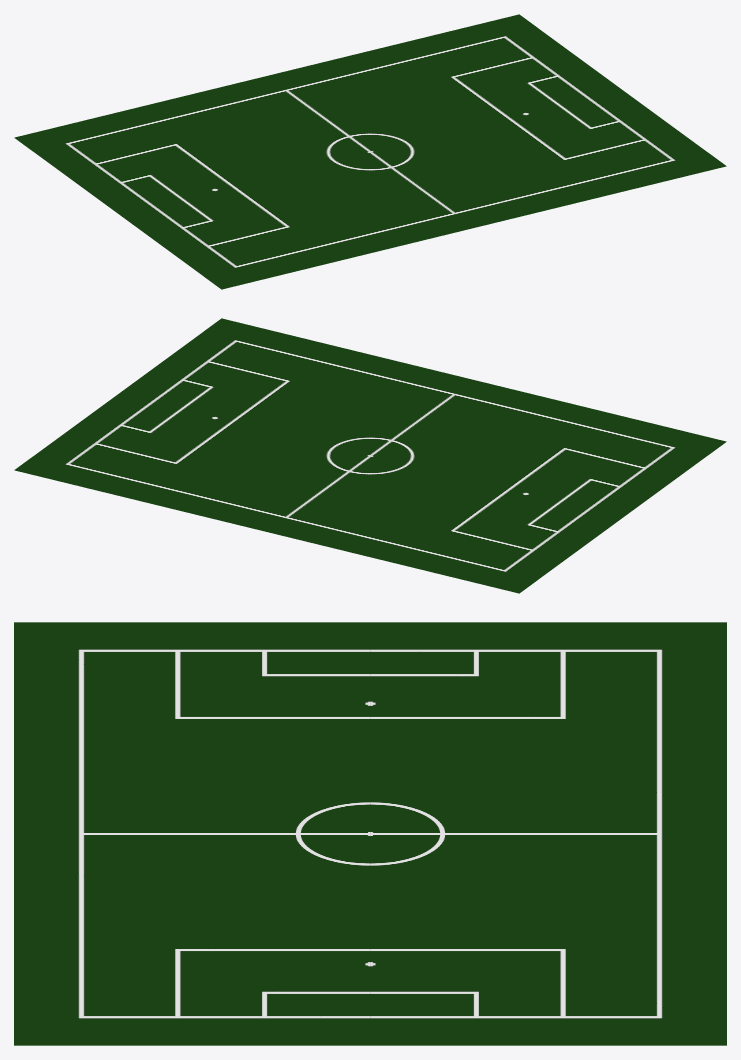
The model's file is spl_field (1).glb.
3 views of the same model, one above another, from view 1: azimuth 30°, elevation 25°; view 2: azimuth 150°, elevation 25°; view 3: azimuth 270°, elevation 25° (orthographic). The views are drawn at different scales.
Visible parts, largest first — view 1: Plane.001; view 2: Plane.001; view 3: Plane.001.
Part boxes in pixels (x1,y1,x2,y2): Plane.001: [14, 14, 726, 289]; Plane.001: [14, 318, 726, 593]; Plane.001: [14, 622, 726, 1045].
Bounding box in the file's own units: 10.4 × 0 × 7.4.
Materials: 4 (4 with a texture image).
